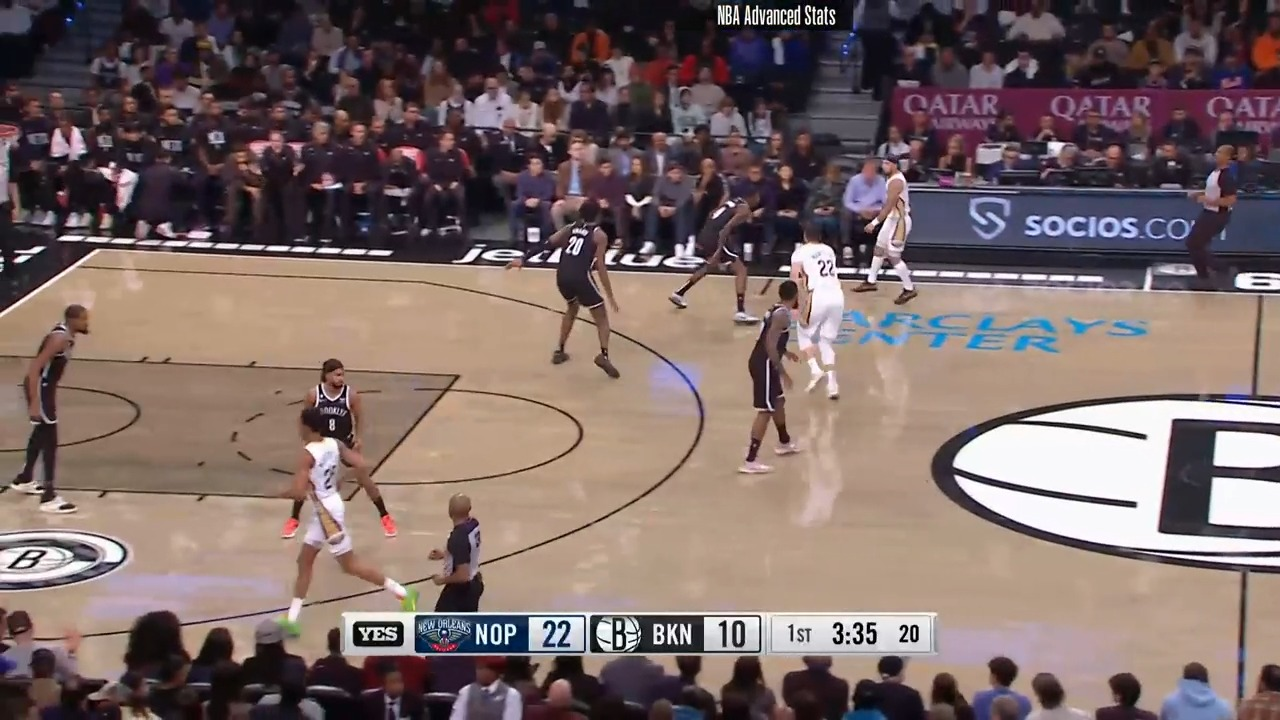player: (272, 403, 415, 640), (283, 357, 397, 540), (10, 301, 96, 514), (736, 280, 816, 481), (542, 205, 626, 382), (667, 190, 767, 324), (790, 228, 848, 405), (856, 159, 916, 307)
referee: (1178, 141, 1242, 296), (425, 492, 493, 616)
